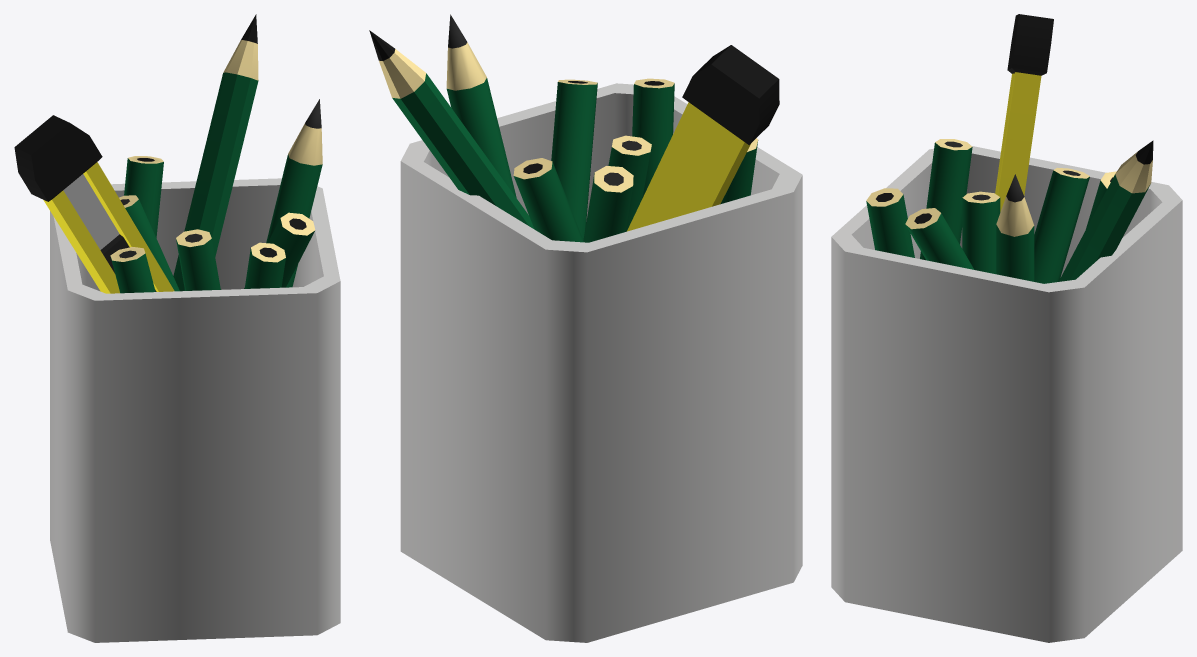
The picture shows the model from 3 angles, left to right: view 1: azimuth 30°, elevation 25°; view 2: azimuth 150°, elevation 25°; view 3: azimuth 270°, elevation 25°; orthographic projection. The views are drawn at different scales.
Visible parts, largest first — view 1: Joint_0_Object_1, Joint_0_Object_2, Joint_0_Object_0; view 2: Joint_0_Object_1, Joint_0_Object_2, Joint_0_Object_0; view 3: Joint_0_Object_1, Joint_0_Object_2, Joint_0_Object_0.
Part boxes in pixels (x1,y1,x2,y2): Joint_0_Object_1: (50,178,340,642); Joint_0_Object_2: (110,14,322,293); Joint_0_Object_0: (14,115,174,293); Joint_0_Object_1: (400,83,802,642); Joint_0_Object_2: (369,14,758,242); Joint_0_Object_0: (627,45,779,231); Joint_0_Object_1: (831,146,1182,642); Joint_0_Object_2: (866,139,1153,283); Joint_0_Object_0: (995,14,1053,211).
Size of the model in its own units: 207 by 311 by 200.
